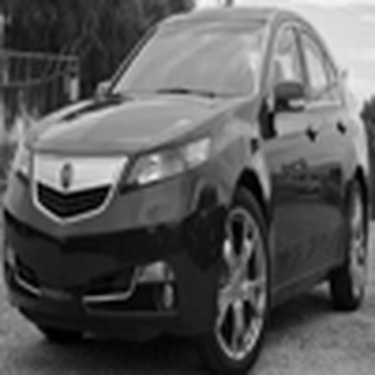car: (1, 19, 369, 371)
